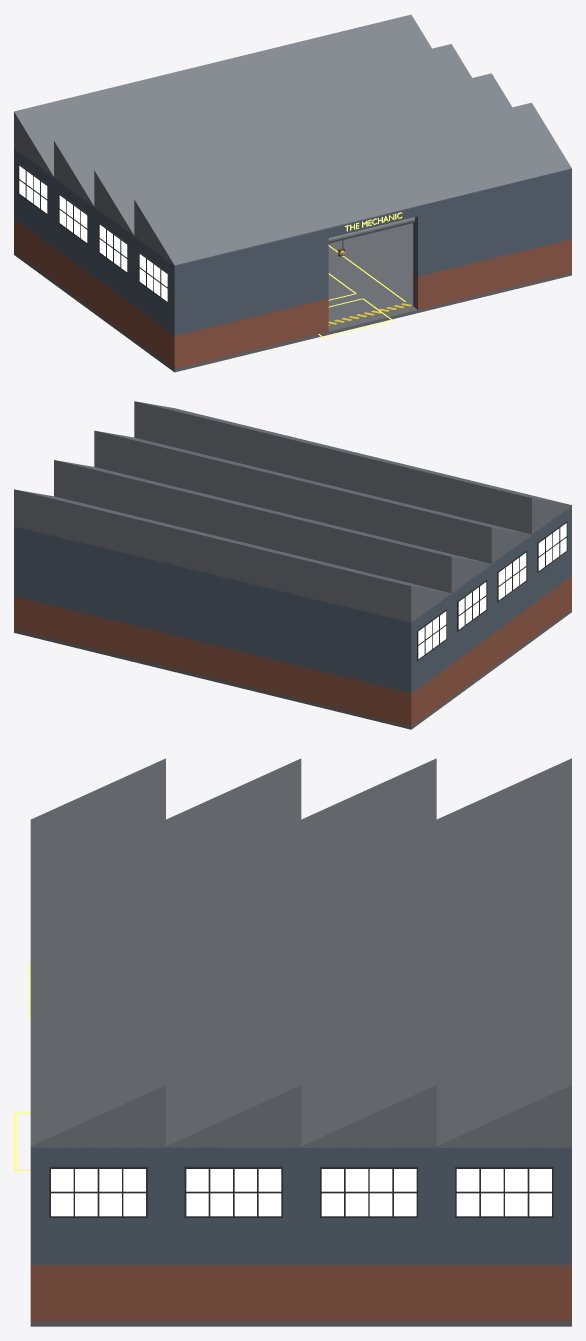
The model's file is garage.glb.
The picture shows the model from 3 angles, top to bottom: view 1: azimuth 30°, elevation 25°; view 2: azimuth 150°, elevation 25°; view 3: azimuth 270°, elevation 25°; orthographic projection. The views are drawn at different scales.
Parts seen in each view (by area): view 1: Roof_Tooth_0, Roof_Tooth_1, Roof_Tooth_2, Roof_Tooth_3, Wall_Front_L_Panel, Wall_Front_R_Panel, Floor_Slab, Wall_Left_Panel, Wall_Left_Brick, Wall_Front_L_Brick, Wall_Front_R_Brick, Wall_Front_Lintel (+6 smaller); view 2: Wall_Back_Panel, Roof_Tooth_0, Roof_Tooth_1, Roof_Tooth_2, Roof_Tooth_3, Wall_Back_Brick, Wall_Left_Panel, Wall_Left_Brick, Floor_Slab, Window_L_3, Window_L_0, Window_L_1 (+2 smaller); view 3: Roof_Tooth_1, Roof_Tooth_2, Roof_Tooth_3, Roof_Tooth_0, Wall_Right_Panel, Wall_Right_Brick, Window_R_2, Window_R_3, Window_R_1, Window_R_0, Floor_Slab, Wall_Front_R_Panel (+2 smaller).
Boxes of the visible parts, x1,y1,x2,y2 form: Roof_Tooth_0: (134, 102, 571, 265); Roof_Tooth_1: (94, 73, 511, 235); Roof_Tooth_2: (54, 44, 471, 206); Roof_Tooth_3: (14, 14, 431, 176); Wall_Front_L_Panel: (171, 229, 328, 335); Wall_Front_R_Panel: (415, 168, 571, 276); Floor_Slab: (14, 223, 571, 372); Wall_Left_Panel: (14, 148, 179, 335); Wall_Left_Brick: (14, 219, 179, 368); Wall_Front_L_Brick: (171, 298, 328, 369); Wall_Front_R_Brick: (415, 240, 571, 309); Wall_Front_Lintel: (328, 206, 417, 237); Wall_Back_Panel: (14, 526, 414, 693); Roof_Tooth_0: (134, 401, 571, 534); Roof_Tooth_1: (94, 430, 531, 563); Roof_Tooth_2: (54, 460, 490, 593); Roof_Tooth_3: (14, 489, 450, 622); Wall_Back_Brick: (14, 596, 414, 726); Wall_Left_Panel: (406, 507, 568, 692); Wall_Left_Brick: (406, 578, 568, 726); Floor_Slab: (14, 609, 571, 729); Window_L_3: (418, 611, 446, 658); Window_L_0: (538, 523, 566, 570); Window_L_1: (498, 553, 526, 599); Roof_Tooth_1: (166, 758, 301, 1146); Roof_Tooth_2: (301, 758, 436, 1146); Roof_Tooth_3: (436, 758, 571, 1146); Roof_Tooth_0: (30, 758, 165, 1146); Wall_Right_Panel: (30, 1146, 571, 1265); Wall_Right_Brick: (31, 1265, 571, 1321); Window_R_2: (321, 1169, 416, 1216); Window_R_3: (456, 1169, 551, 1216); Window_R_1: (186, 1169, 281, 1216); Window_R_0: (51, 1169, 145, 1216); Floor_Slab: (30, 1321, 571, 1326); Wall_Front_R_Panel: (30, 1147, 40, 1265).
Bounding box in the file's own units: 40.2 × 13.8 × 28.87.
